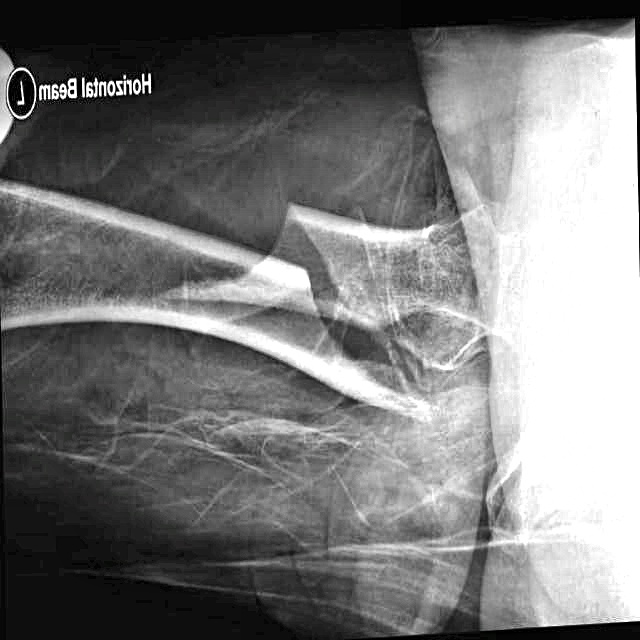Spiral: (189, 193, 438, 429)
